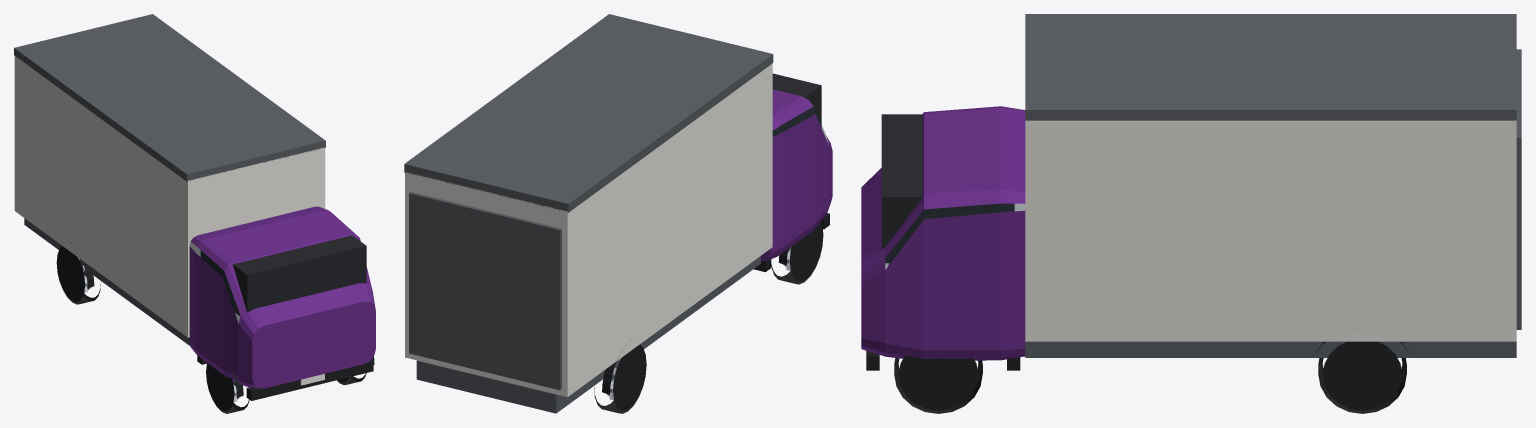
Rendered from boxtruck.glb.
The picture shows the model from 3 angles, left to right: view 1: azimuth 30°, elevation 25°; view 2: azimuth 150°, elevation 25°; view 3: azimuth 270°, elevation 25°; orthographic projection. The views are drawn at different scales.
Parts seen in each view (by area): view 1: body, wheel_RL, wheel_FL; view 2: body, wheel_RL, wheel_FL; view 3: body, wheel_RR, wheel_FR.
Part boxes in pixels (left/top/right/bottom): body: left=14, top=14, right=375, bottom=400; wheel_RL: left=56, top=246, right=101, bottom=304; wheel_FL: left=206, top=363, right=249, bottom=413; body: left=404, top=14, right=832, bottom=413; wheel_RL: left=594, top=344, right=646, bottom=413; wheel_FL: left=771, top=221, right=823, bottom=284; body: left=861, top=14, right=1521, bottom=370; wheel_RR: left=1318, top=341, right=1406, bottom=413; wheel_FR: left=894, top=354, right=982, bottom=413.
Size of the model in its own units: 2.36 by 3.51 by 6.85.
